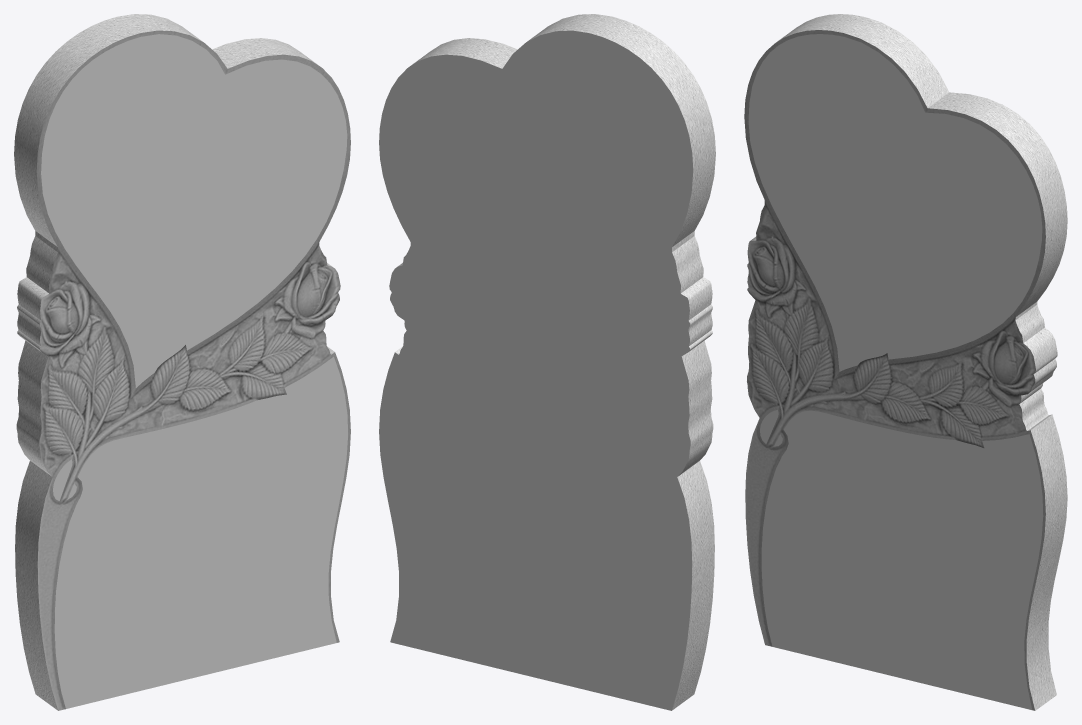
The model's file is cn0b3e20bbcb_tkf.glb.
3 renders of one model, left to right at view 1: azimuth 30°, elevation 25°; view 2: azimuth 150°, elevation 25°; view 3: azimuth 330°, elevation 25°, orthographic. The views are drawn at different scales.
Parts seen in each view (by area): view 1: Pam-d03-177, Pam-d03-177_2_notexture; view 2: Pam-d03-177, Pam-d03-177_2_notexture; view 3: Pam-d03-177, Pam-d03-177_2_notexture.
Part boxes in pixels (box(x1,y1,x2,y2)): Pam-d03-177: box(41, 34, 347, 708); Pam-d03-177_2_notexture: box(14, 14, 350, 710); Pam-d03-177: box(379, 30, 693, 710); Pam-d03-177_2_notexture: box(395, 14, 715, 710); Pam-d03-177: box(748, 34, 1043, 709); Pam-d03-177_2_notexture: box(744, 14, 1067, 710).
Bounding box in the file's own units: 0.4 × 0.8 × 0.05.
1 material, 1 textured.
